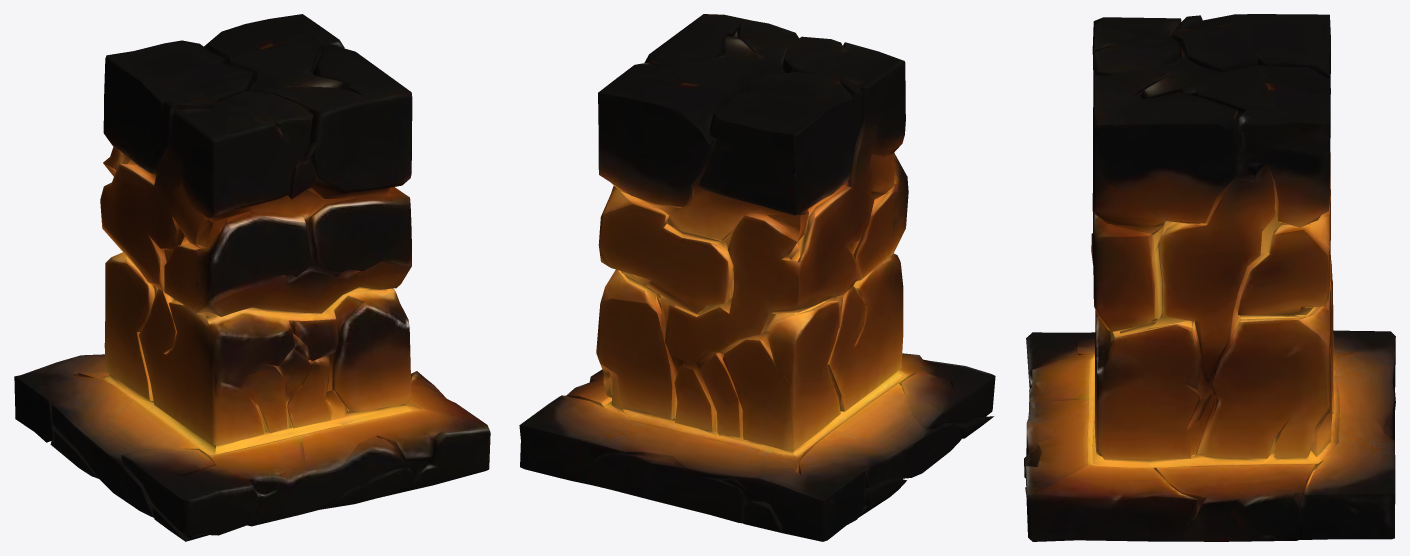
Rendered from m2BasaltPillar.glb.
The picture shows the model from 3 angles, left to right: view 1: azimuth 30°, elevation 25°; view 2: azimuth 150°, elevation 25°; view 3: azimuth 270°, elevation 25°; orthographic projection. The views are drawn at different scales.
Visible parts, largest first — view 1: model; view 2: model; view 3: model.
Part boxes in pixels (x1=…): model: x1=14, y1=14, x2=490, y2=541; model: x1=519, y1=14, x2=995, y2=541; model: x1=1024, y1=14, x2=1395, y2=541.
Bounding box in the file's own units: 1.67 × 1.9 × 1.6.
Materials: 1 (1 with a texture image).
